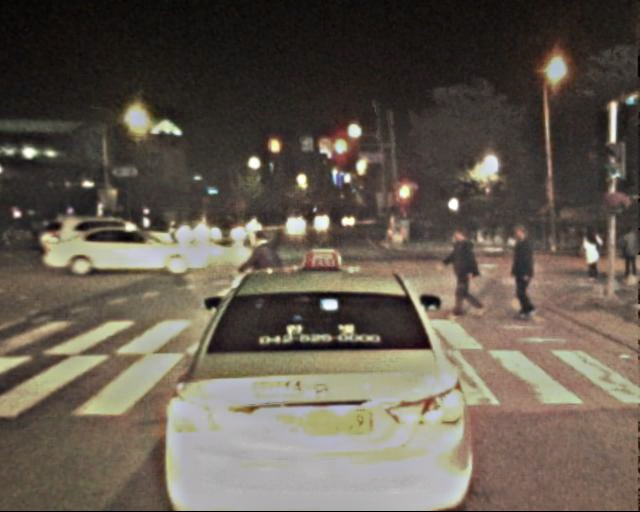person: (506, 225, 548, 327), (447, 229, 488, 329), (248, 230, 284, 317), (578, 227, 605, 293), (615, 224, 640, 286)
